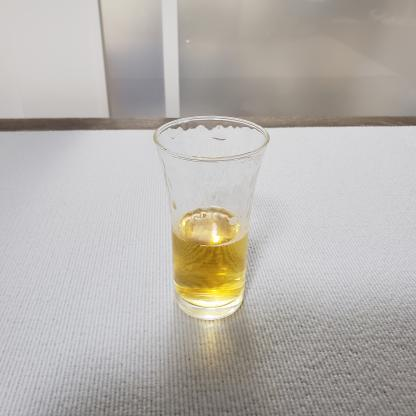glass: (142, 107, 286, 329)
